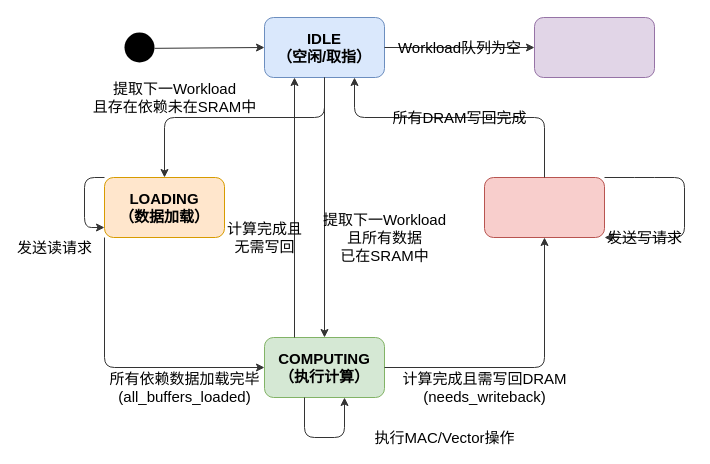
This 710x464 diagram has some shape labels left out. The shapes that lost their labels are listed below. From the top down, each one's centre as x and y in pixels, then its label:
At (x=594, y=47): "DONE （仿真结束）".
At (x=544, y=207): "WRITEBACK （写回DRAM）".
